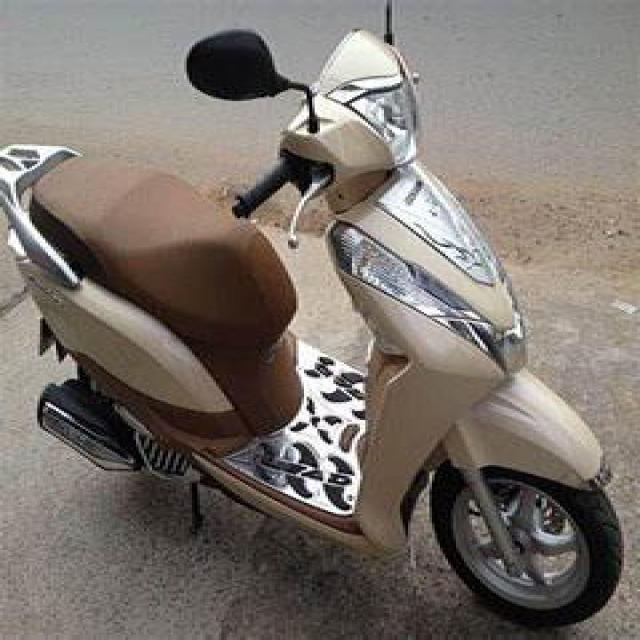motorcycle: (0, 0, 626, 636)
